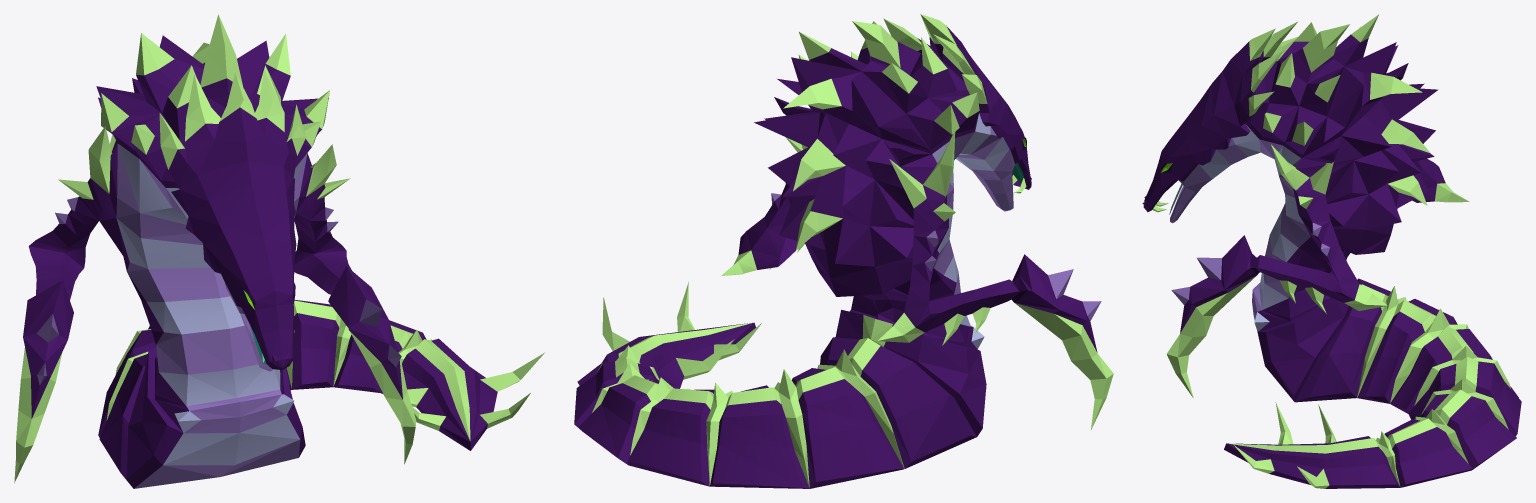
3 views of the same model, side by side, from view 1: azimuth 30°, elevation 25°; view 2: azimuth 150°, elevation 25°; view 3: azimuth 270°, elevation 25° (orthographic). The views are drawn at different scales.
Visible parts, largest first — view 1: Alien_Serpent; view 2: Alien_Serpent; view 3: Alien_Serpent.
Part boxes in pixels (bbox=[...]): Alien_Serpent: bbox=[14, 14, 544, 488]; Alien_Serpent: bbox=[574, 14, 1113, 488]; Alien_Serpent: bbox=[1142, 14, 1521, 488].
Size of the model in its own units: 281 by 219 by 209.
1 material, 1 textured.
